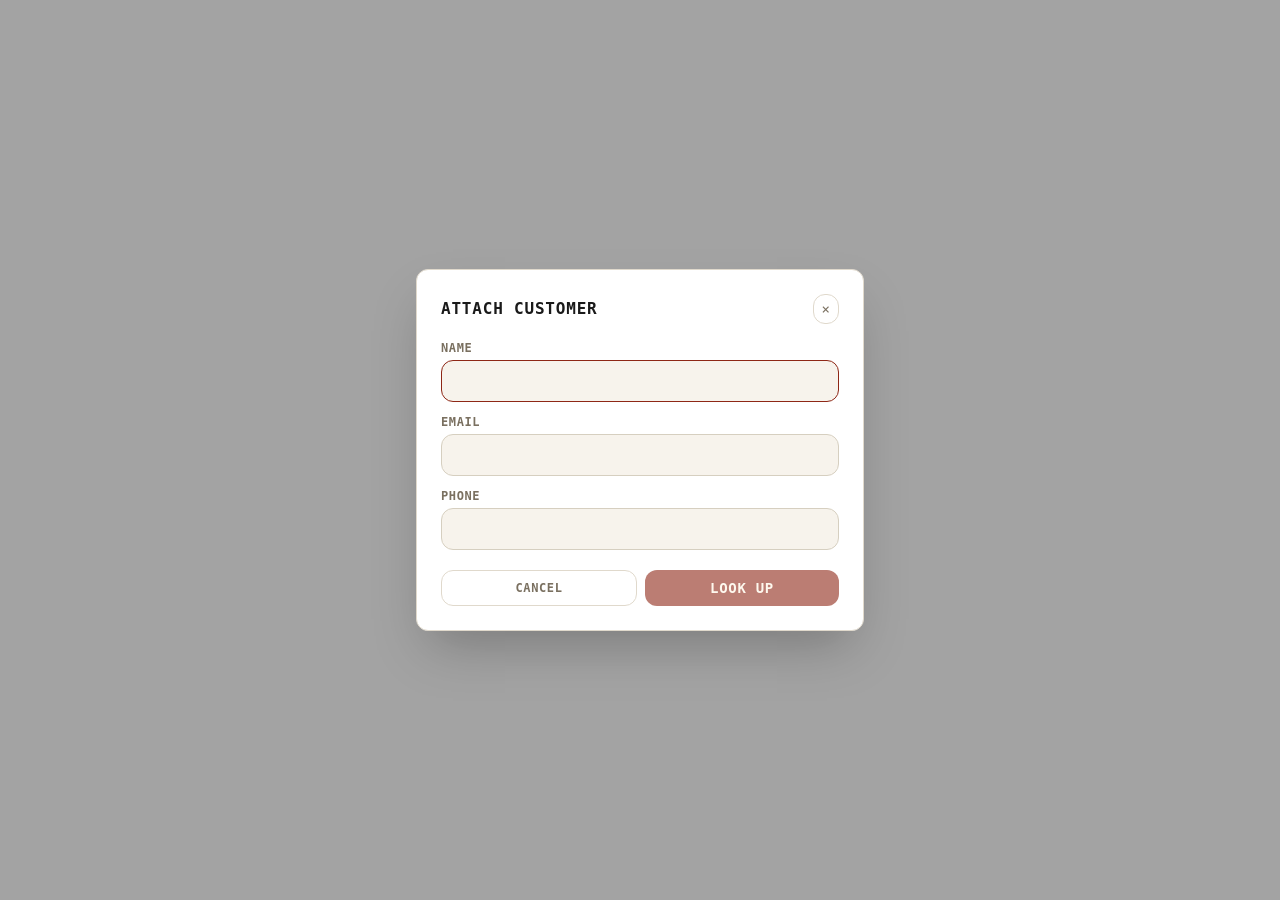
<AttachCustomerModal> › 'Create Customer' surfaces an error and does NOT attach on 503
In the field named "customer name": (640, 381) [441, 360, 839, 402], type "Brand New"
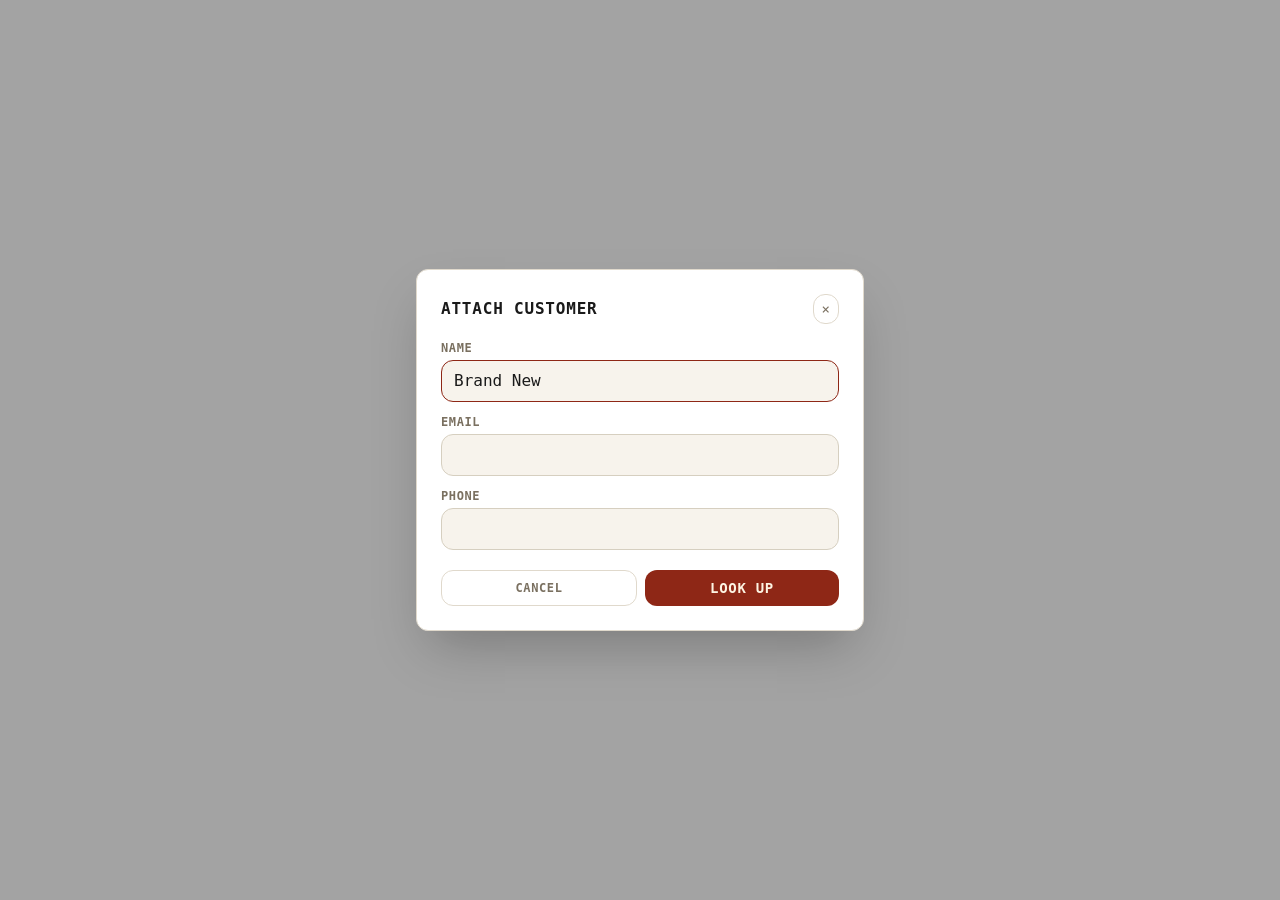
Click the button "Look up": click(742, 588) [645, 570, 839, 606]
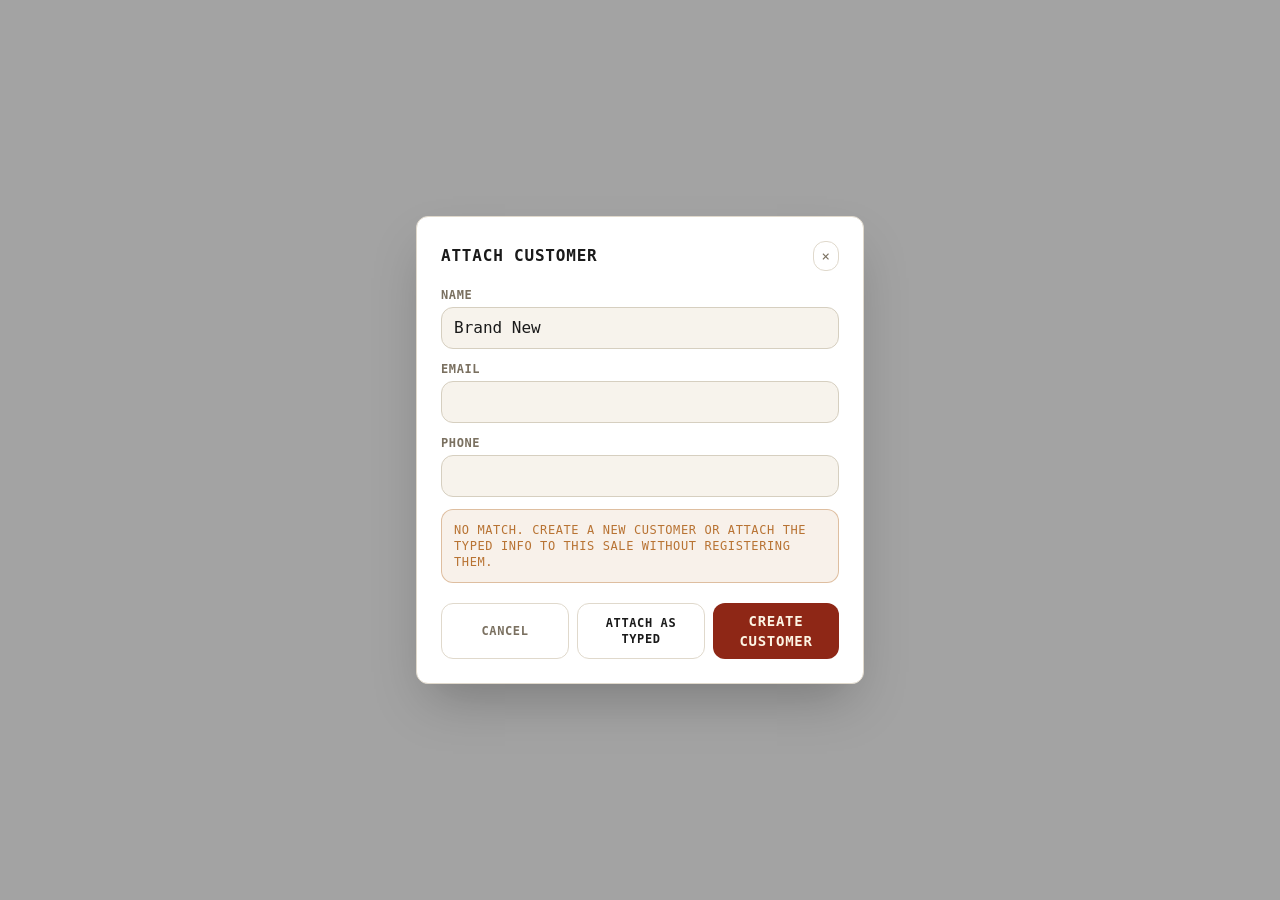
expect the text with test id "customer-no-match" is shown: met, box [441, 509, 839, 583]
Click the button with test id "customer-create-button": click(776, 631) [713, 603, 839, 659]
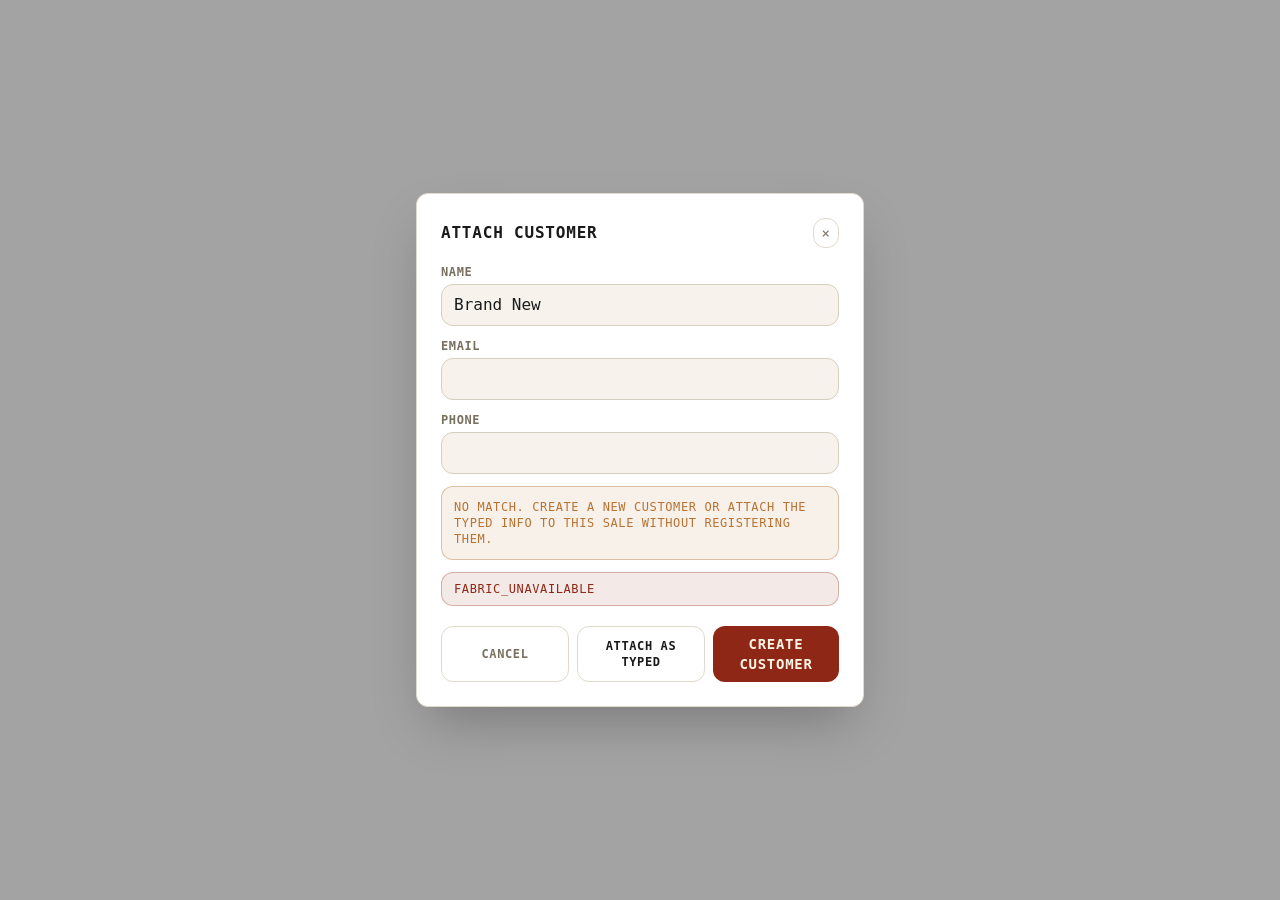
expect the message "fabric_unavailable" is shown: met, box [441, 572, 839, 606]
